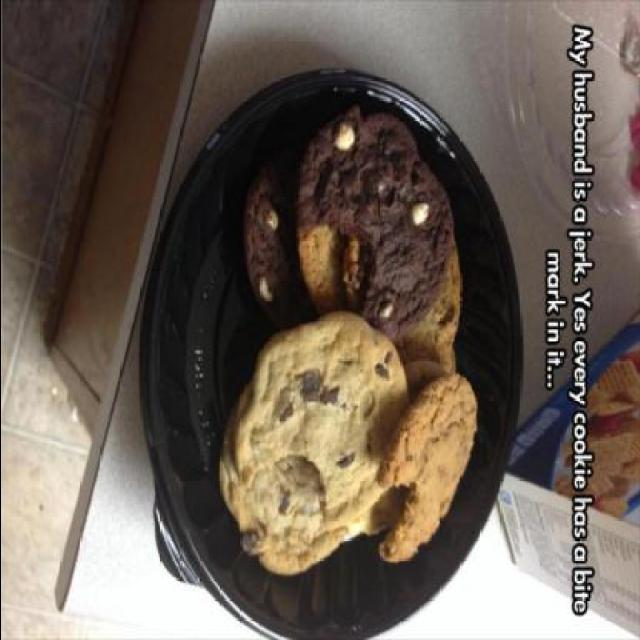Cookie: (221, 99, 479, 581)
